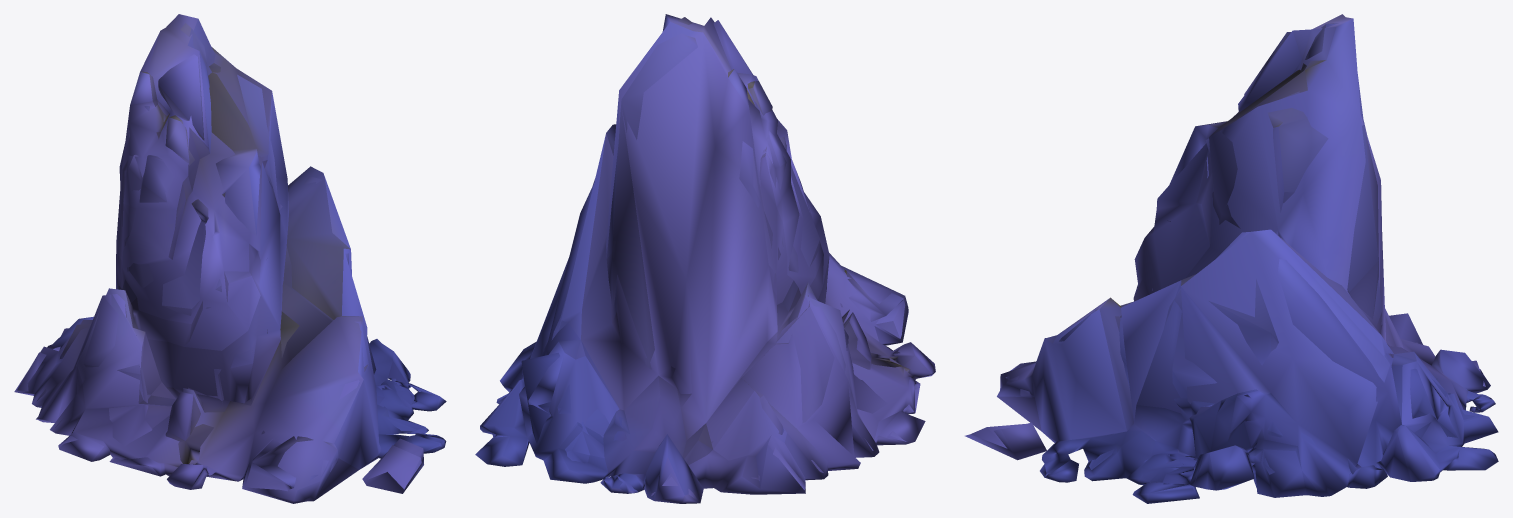
File: model.progressive.glb
The picture shows the model from 3 angles, left to right: view 1: azimuth 30°, elevation 25°; view 2: azimuth 150°, elevation 25°; view 3: azimuth 270°, elevation 25°; orthographic projection. The views are drawn at different scales.
Visible parts, largest first — view 1: material; view 2: material; view 3: material.
Boxes of the visible parts, x1=… form: material: x1=14, y1=14, x2=446, y2=503; material: x1=475, y1=14, x2=935, y2=503; material: x1=965, y1=14, x2=1498, y2=503.
Size of the model in its own units: 1.52 by 1.54 by 1.9.
1 material, 1 textured.
